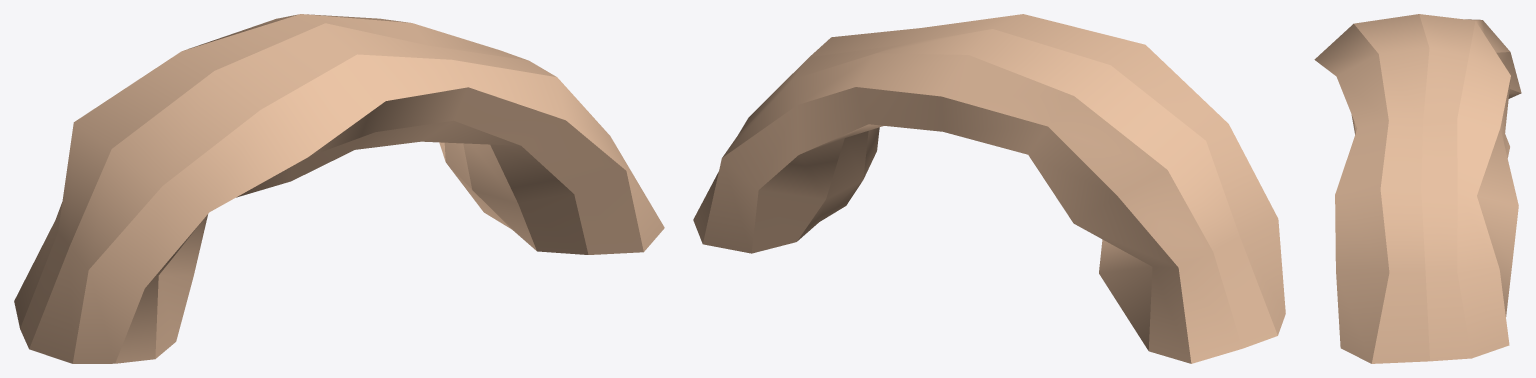
File: Arch_Rock_3_0.6_1_Colored.fbx
3 views of the same model, side by side, from view 1: azimuth 30°, elevation 25°; view 2: azimuth 150°, elevation 25°; view 3: azimuth 270°, elevation 25° (orthographic). The views are drawn at different scales.
Visible parts, largest first — view 1: Arch_Rock; view 2: Arch_Rock; view 3: Arch_Rock.
Boxes of the visible parts, x1,y1,x2,y2 form: Arch_Rock: (14, 14, 664, 363); Arch_Rock: (693, 14, 1285, 363); Arch_Rock: (1314, 14, 1521, 363).
Bounding box in the file's own units: 487 × 195 × 184.
